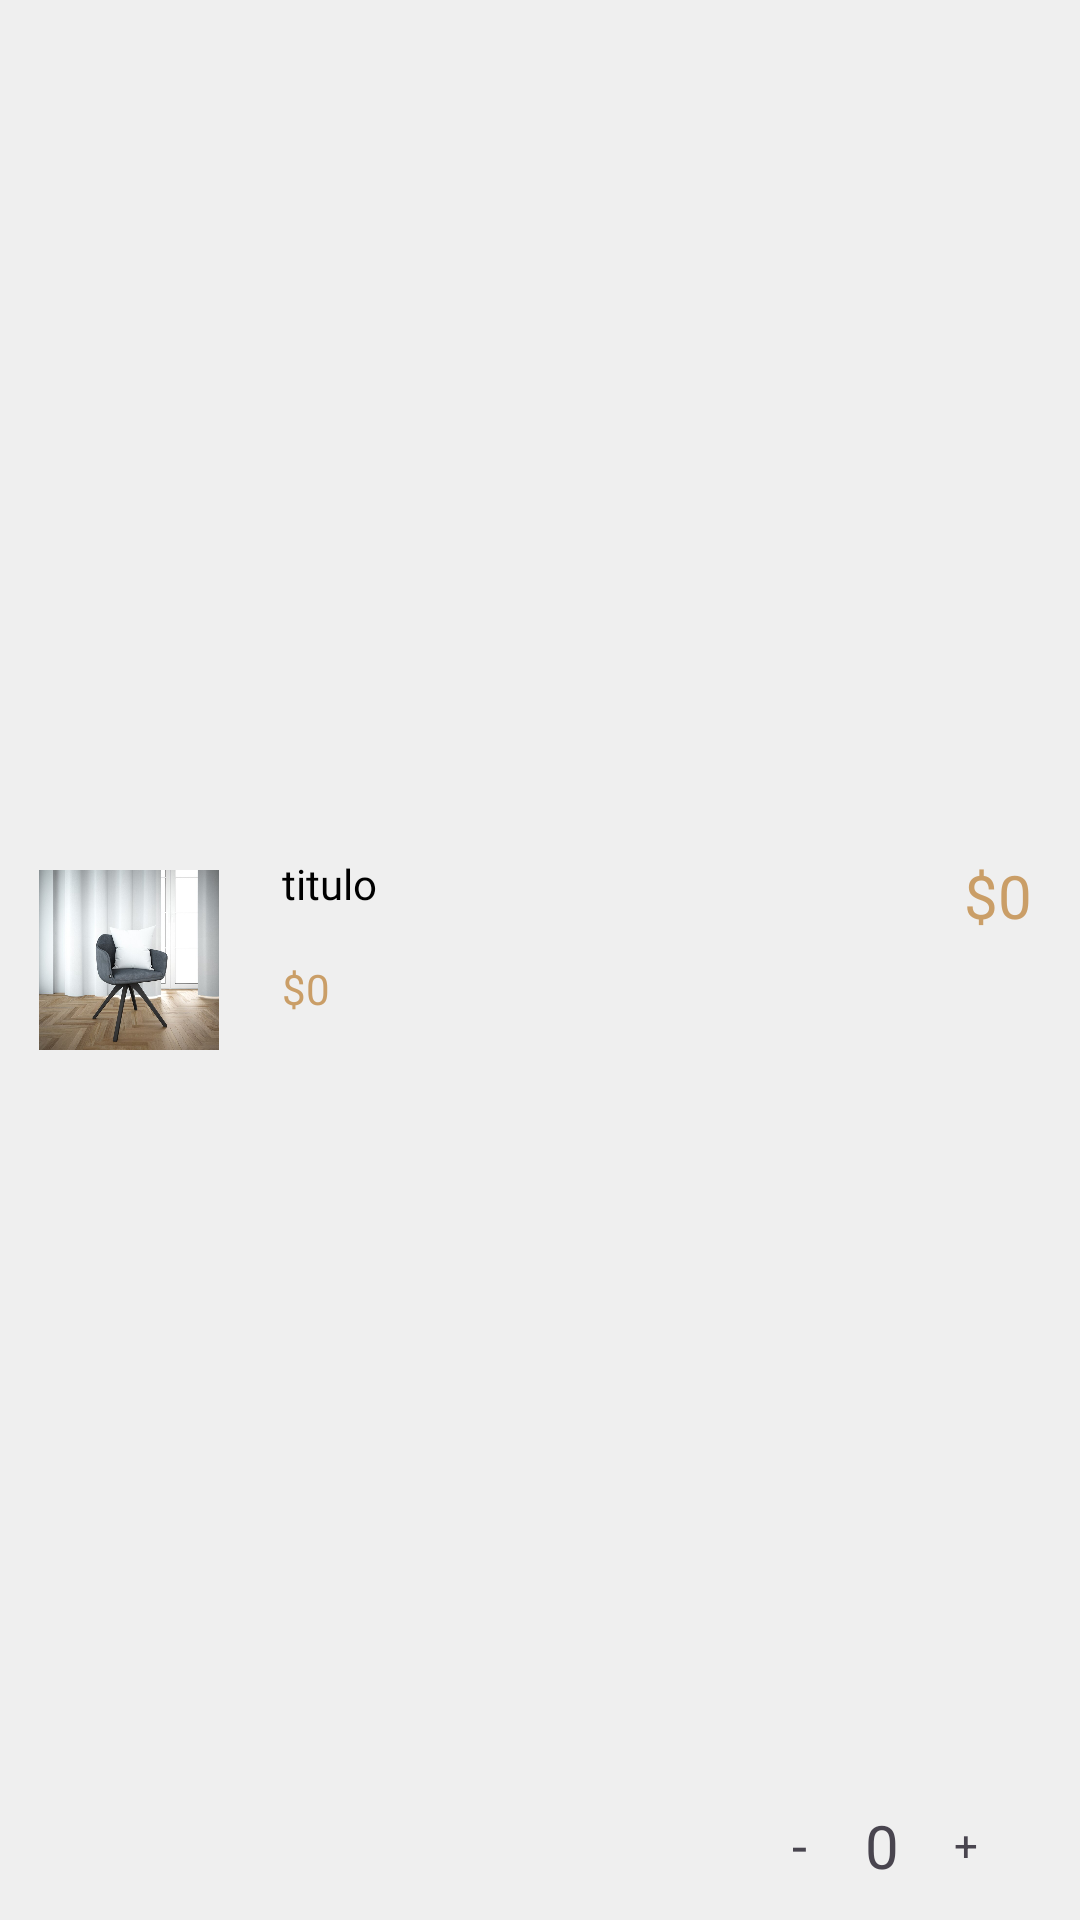

Named icons in this screenshot (1080px×1920px) and their bounding boxes, (left=x1, top=y1, right=x2, bottom=y2):
silla pop: (left=39, top=870, right=219, bottom=1050)
